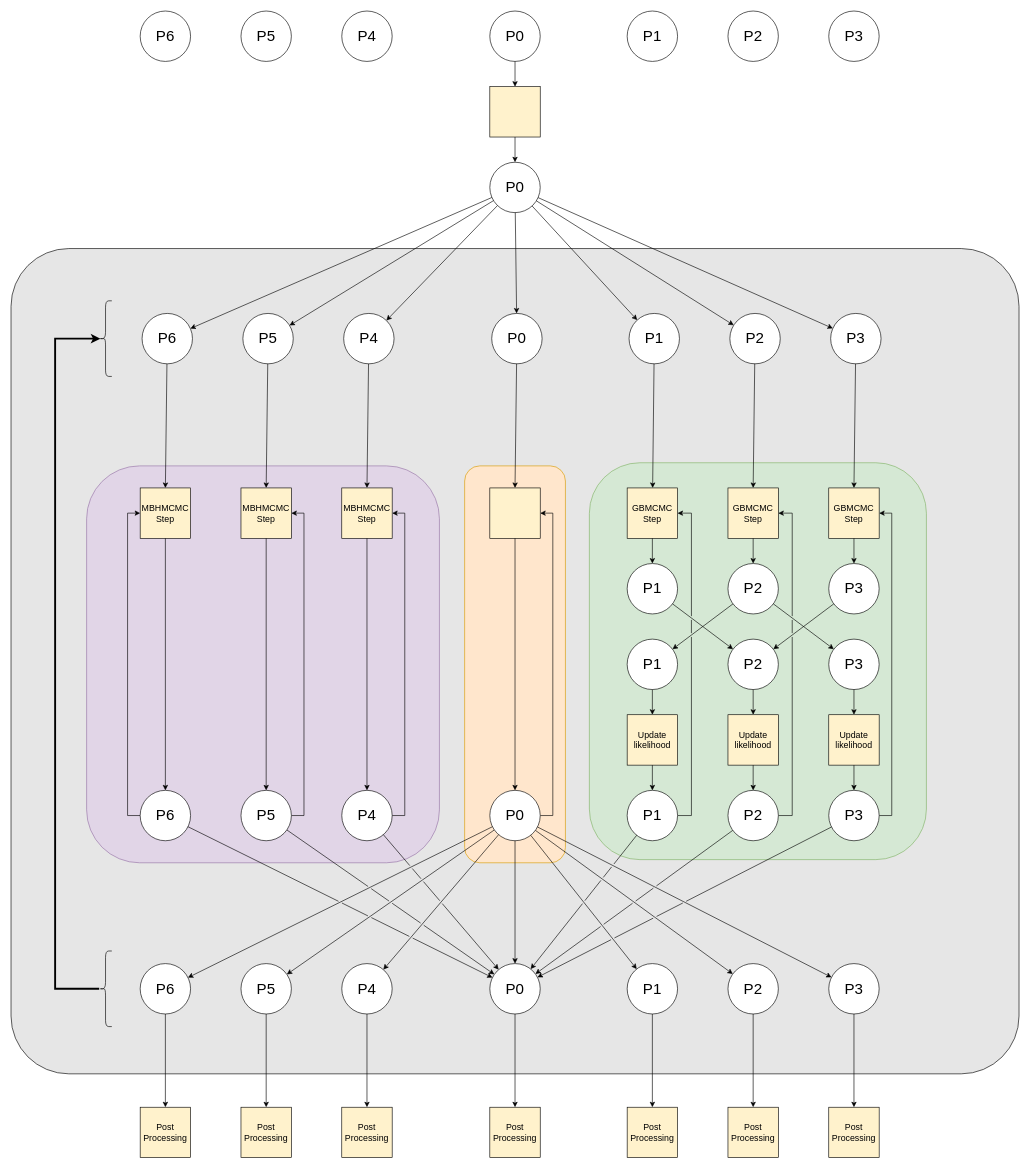
This 1030x1169 diagram has some shape labels left out. Each missing label, with the centre of its shape:
"BayesLine Step" belongs at point (514, 512).
"Read Data" belongs at point (514, 111).
